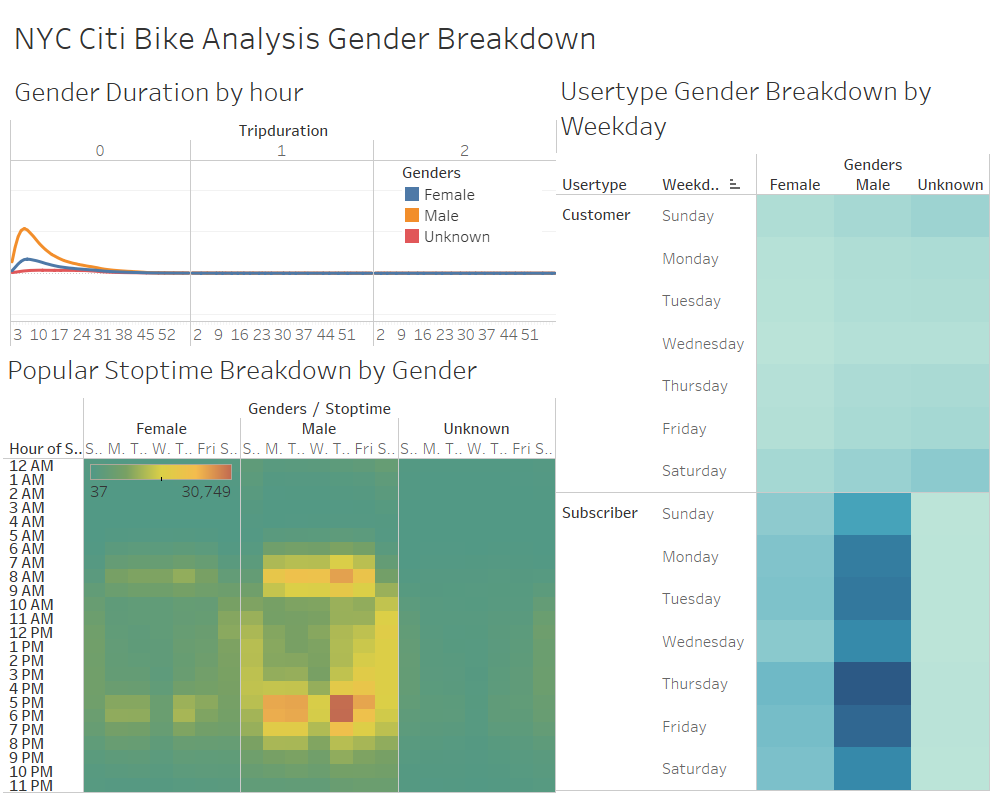

The page's visual inventory and layout, read from the dashboard file:
{"tool":"tableau","page":{"name":"Gender Breakdowns","canvas":[1000,800],"ordinal":0},"visuals":[{"type":"title","box":[8,8,984,50]},{"type":"worksheet","title":"Usertype Gender Breakdown by Weekday","mark":"Automatic","rows":["usertype","starttime"],"cols":["Calculation_676947352250261504"],"box":[558,65,435,722]},{"type":"worksheet","title":"Gender Duration by hour","mark":"Automatic","rows":["Converted_Bike.csv_7AA075E4AC8A4D958C8C88A41BEB37E3"],"cols":["tripduration","tripduration"],"box":[12,66,547,277]},{"type":"legend","title":"Gender Duration by hour","param":"[federated.1adwg1p05xwqxo1e99phk1s4ny15].[none:Calculation_676947352250261504:nk","box":[404,158,140,85]},{"type":"worksheet","title":"gender usage by hour/weekday","mark":"Automatic","rows":["starttime"],"cols":["Calculation_676947352250261504","stoptime"],"box":[5,344,553,445]},{"type":"legend","title":"gender usage by hour/weekday","param":"[federated.1adwg1p05xwqxo1e99phk1s4ny15].[__tableau_internal_object_id__].[cnt:C","box":[88,456,150,43]}]}

Visuals, with their boxes in screenshot pixels (x1, y1, x2, y2), scaled from the page's 1000x800 canvas onto the 1003x802 screenshot:
title: <box>8,8,995,58</box>
"Usertype Gender Breakdown by Weekday" worksheet: <box>560,65,996,789</box>
"Gender Duration by hour" worksheet: <box>12,66,561,344</box>
"Gender Duration by hour" legend: <box>405,158,546,244</box>
"gender usage by hour/weekday" worksheet: <box>5,345,560,791</box>
"gender usage by hour/weekday" legend: <box>88,457,239,500</box>
